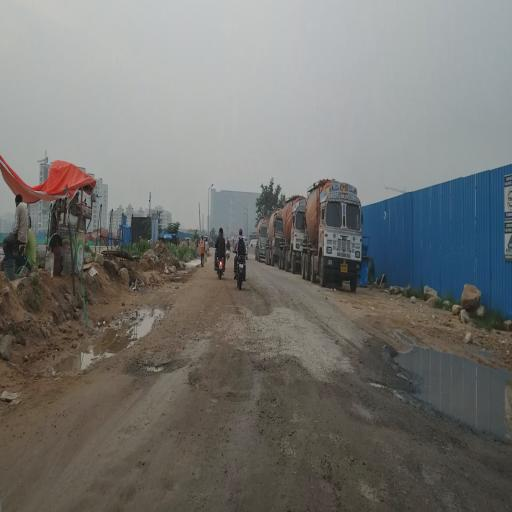street_light_0: (203, 180, 220, 196)
